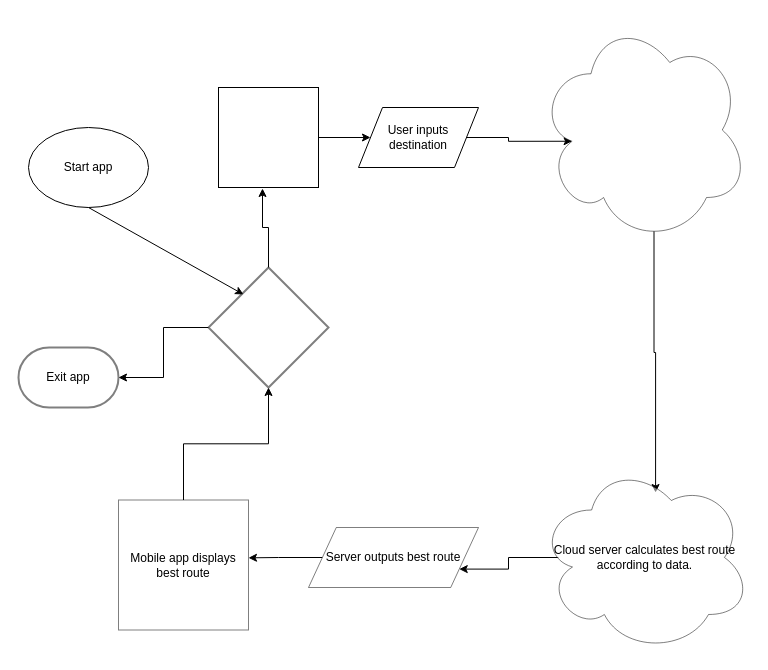
Some shapes in this 768 by 670 pixel diagram are drawn without their labels. The centre of each missing label's shape, as x and y in pixels:
Cloud server receives destination, map, and AQI data: point 643,129
Main Menu: point 268,327
Mobile app connects to cloud server: point 268,137
